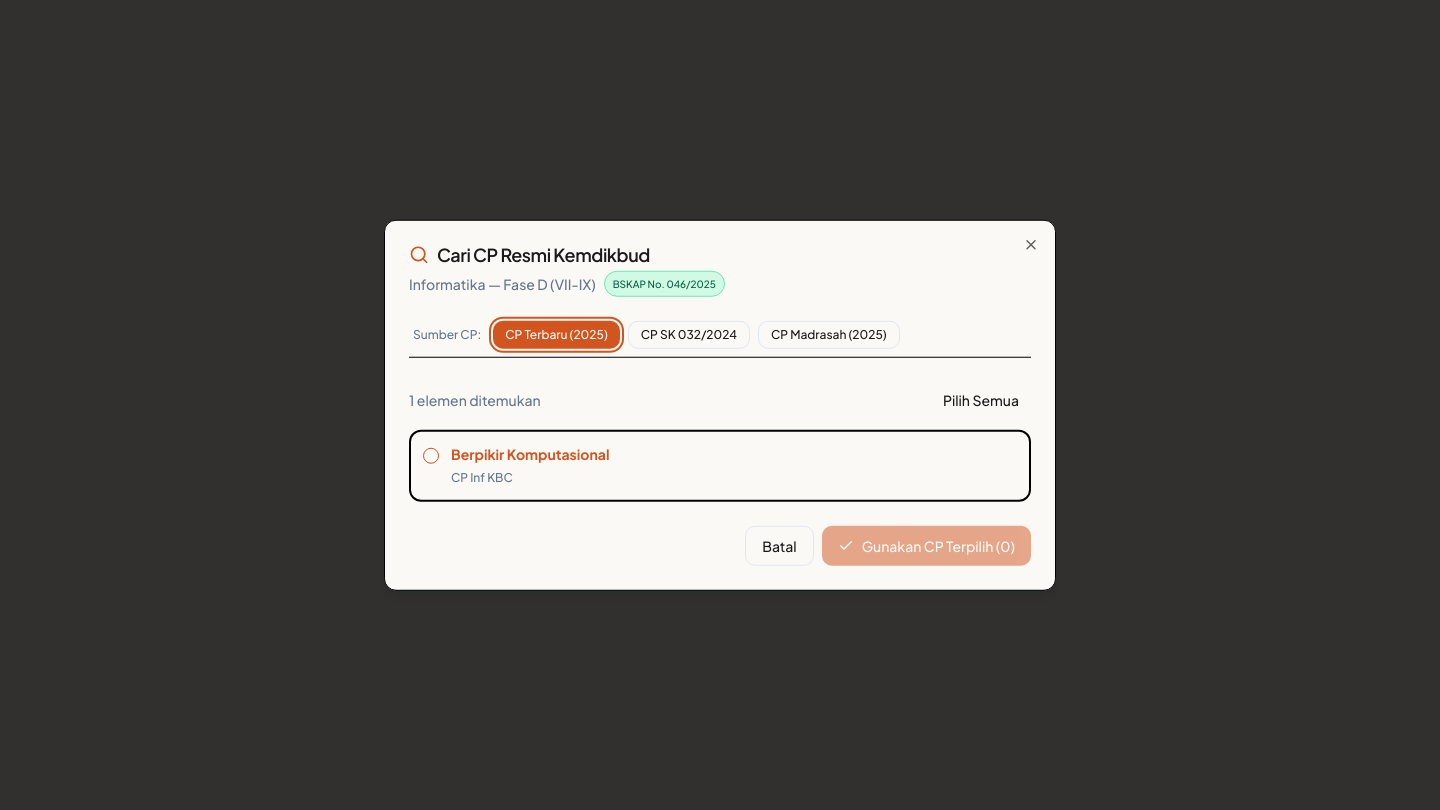
Scenario: CPSelectorModal › keeps standard Kemdikbud subjects on github under kurikulum=kbc, routes Madrasah subjects to kbc_madrasah, and honors special user toggles
This screenshot has width=1440, height=810.
Expected: the text "CP Inf KBC" is shown, x1=451 y1=470 x2=513 y2=485
Click the button "CP SK 032/2024": (689,335) x1=628 y1=321 x2=750 y2=349
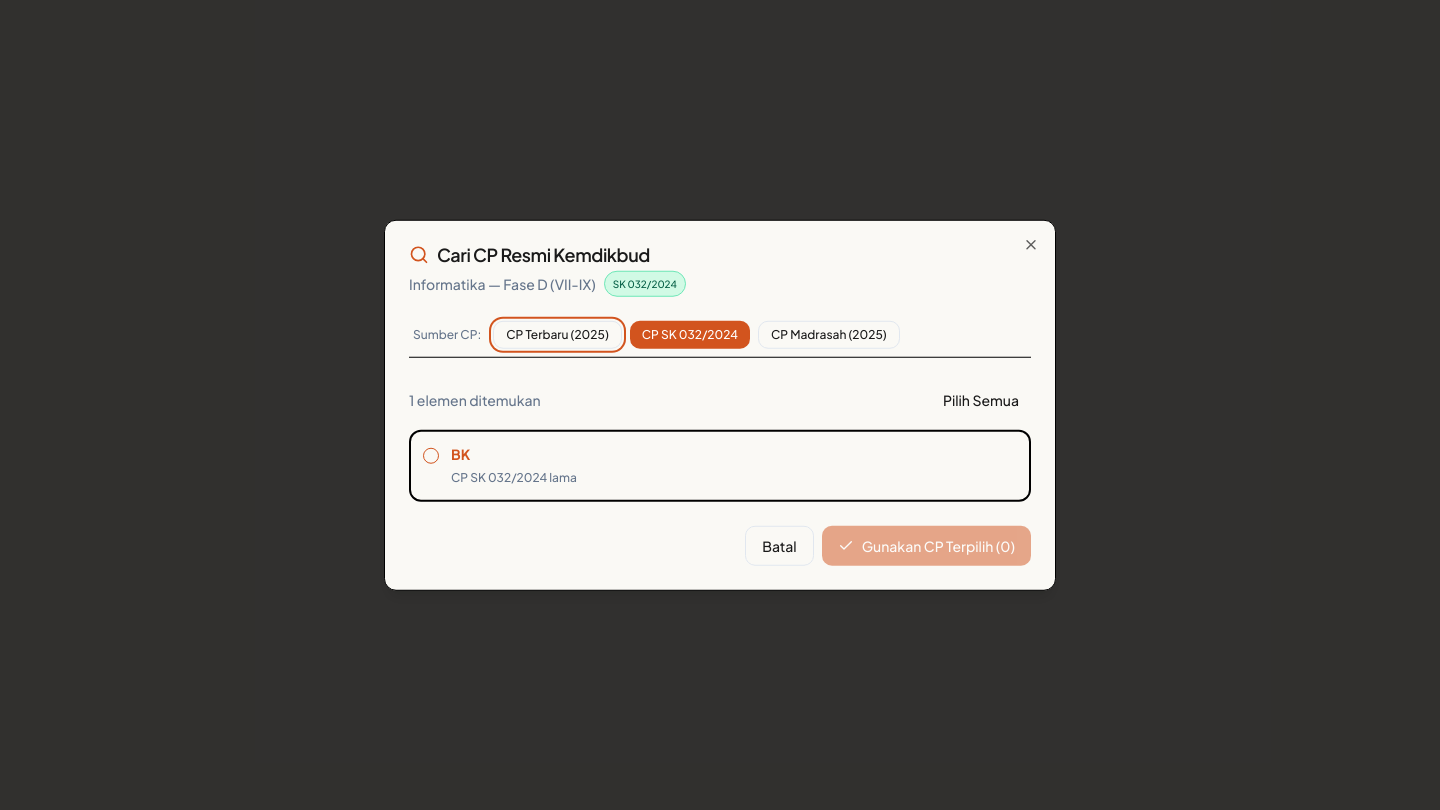
Expected: the text "CP SK 032/2024 lama" is shown, x1=451 y1=470 x2=577 y2=485
Expected: the text "SK 032/2024" is shown, x1=604 y1=271 x2=686 y2=297
